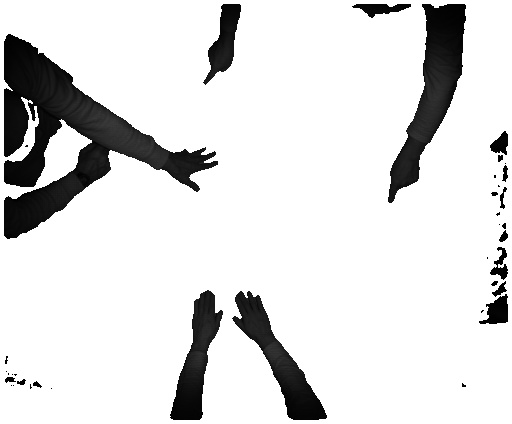fist: (74, 143, 116, 185)
hand: (170, 146, 223, 191), (232, 292, 277, 340), (384, 152, 422, 207), (192, 288, 223, 343), (200, 41, 237, 87)
